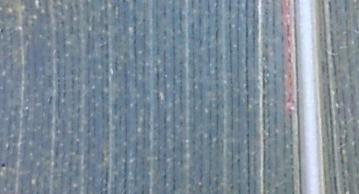tarspot: (1, 158, 9, 173)
